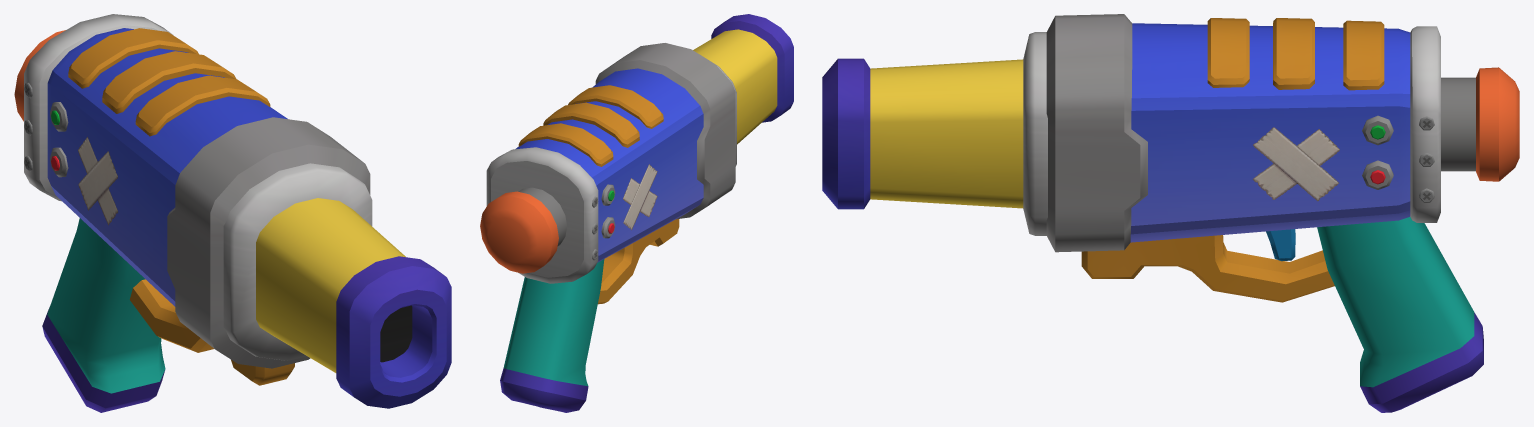
File: SM_Blaster_2_B_SW.fbx
The picture shows the model from 3 angles, left to right: view 1: azimuth 30°, elevation 25°; view 2: azimuth 150°, elevation 25°; view 3: azimuth 270°, elevation 25°; orthographic projection. The views are drawn at different scales.
Parts seen in each view (by area): view 1: SM_Blaster_2_B_SW; view 2: SM_Blaster_2_B_SW; view 3: SM_Blaster_2_B_SW, SM_Blaster_1_B_SW.001.
Boxes of the visible parts, left/top/right/bottom form: SM_Blaster_2_B_SW: left=14, top=14, right=451, bottom=412; SM_Blaster_2_B_SW: left=480, top=14, right=793, bottom=412; SM_Blaster_2_B_SW: left=822, top=14, right=1519, bottom=412; SM_Blaster_1_B_SW.001: left=1266, top=229, right=1295, bottom=261.
Size of the model in its own units: 0.1344 by 0.3061 by 0.5154.
